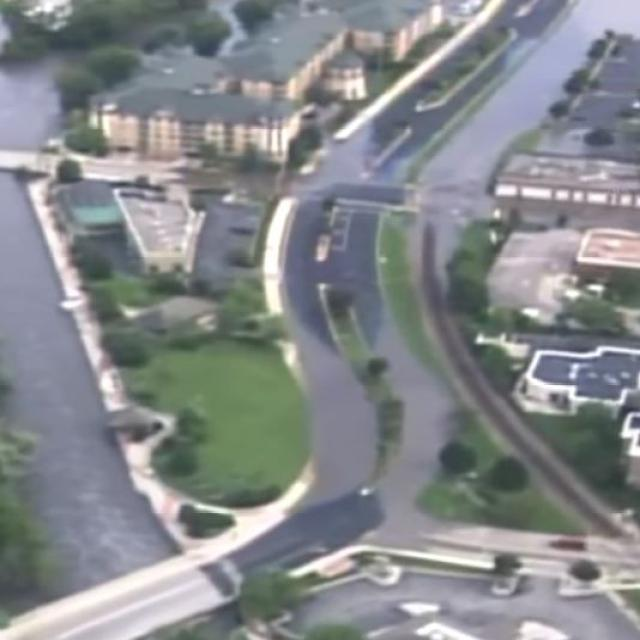flooded_areas: (405, 4, 633, 278), (42, 24, 380, 205), (267, 334, 458, 546)
